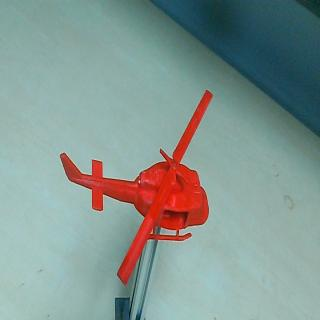Helicopter: (58, 88, 214, 285)
